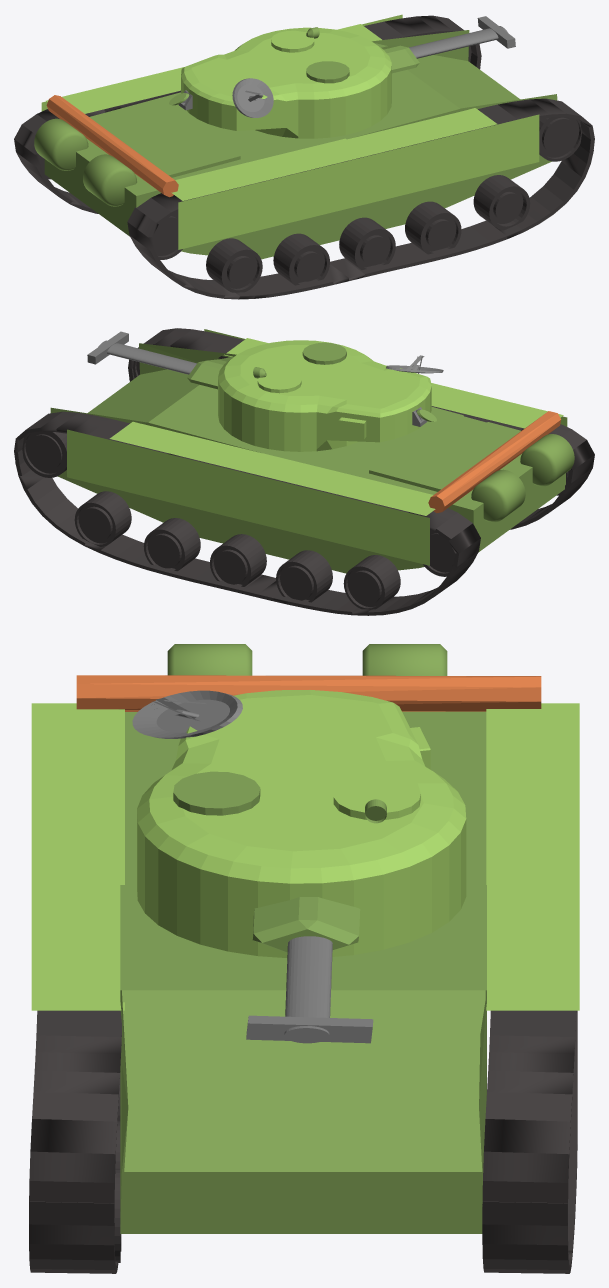
File: ghost.glb
3 renders of one model, top to bottom at view 1: azimuth 30°, elevation 25°; view 2: azimuth 150°, elevation 25°; view 3: azimuth 270°, elevation 25°, orthographic. The views are drawn at different scales.
Parts seen in each view (by area): view 1: Cube.001, Plane.003, turret, Plane.002, Plane.012, Plane, Cylinder.021, Plane.004, Cylinder.017, Cylinder.014, Cylinder.013, Cylinder.012 (+11 smaller); view 2: Cube.001, Plane.005, turret, Plane, Plane.004, Plane.002, Cylinder.021, Plane.012, Cylinder.002, Cylinder.005, Cylinder.004, Cylinder.003 (+10 smaller); view 3: Cube.001, turret, Plane.004, Plane.012, Plane, Plane.002, Cylinder.021, gun, Cylinder.027, Cylinder.024, Cylinder.028, Cylinder.029 (+3 smaller).
Part boxes in pixels (x1,y1,x2,y2): Cube.001: (44, 30, 557, 259); Plane.003: (178, 114, 539, 249); turret: (181, 27, 391, 138); Plane.002: (127, 98, 594, 299); Plane.012: (171, 108, 497, 200); Plane: (14, 15, 481, 213); Cylinder.021: (46, 95, 178, 197); Plane.004: (46, 24, 381, 113); Cylinder.017: (206, 238, 262, 292); Cylinder.014: (473, 175, 530, 230); Cylinder.013: (405, 201, 461, 254); Cylinder.012: (339, 217, 395, 269); Cube.001: (50, 343, 565, 573); Plane.005: (67, 429, 429, 565); turret: (218, 340, 431, 451); Plane: (14, 411, 480, 615); Plane.004: (109, 421, 435, 515); Plane.002: (128, 328, 594, 529); Cylinder.021: (428, 411, 561, 513); Plane.012: (224, 338, 563, 428); Cylinder.002: (343, 555, 400, 609); Cylinder.005: (74, 491, 131, 546); Cylinder.004: (143, 518, 200, 571); Cylinder.003: (210, 534, 266, 586); Cube.001: (120, 711, 486, 1233); turret: (137, 690, 466, 957); Plane.004: (486, 703, 579, 1010); Plane.012: (31, 703, 124, 1010); Plane: (482, 1010, 577, 1273); Plane.002: (29, 1010, 121, 1273); Cylinder.021: (76, 675, 541, 711); gun: (252, 897, 360, 952); Cylinder.027: (284, 936, 332, 1043); Cylinder.024: (132, 690, 242, 738); Cylinder.028: (173, 771, 260, 815); Cylinder.029: (333, 776, 420, 819).
Bounding box in the file's own units: 11.05 × 4.18 × 5.75.
